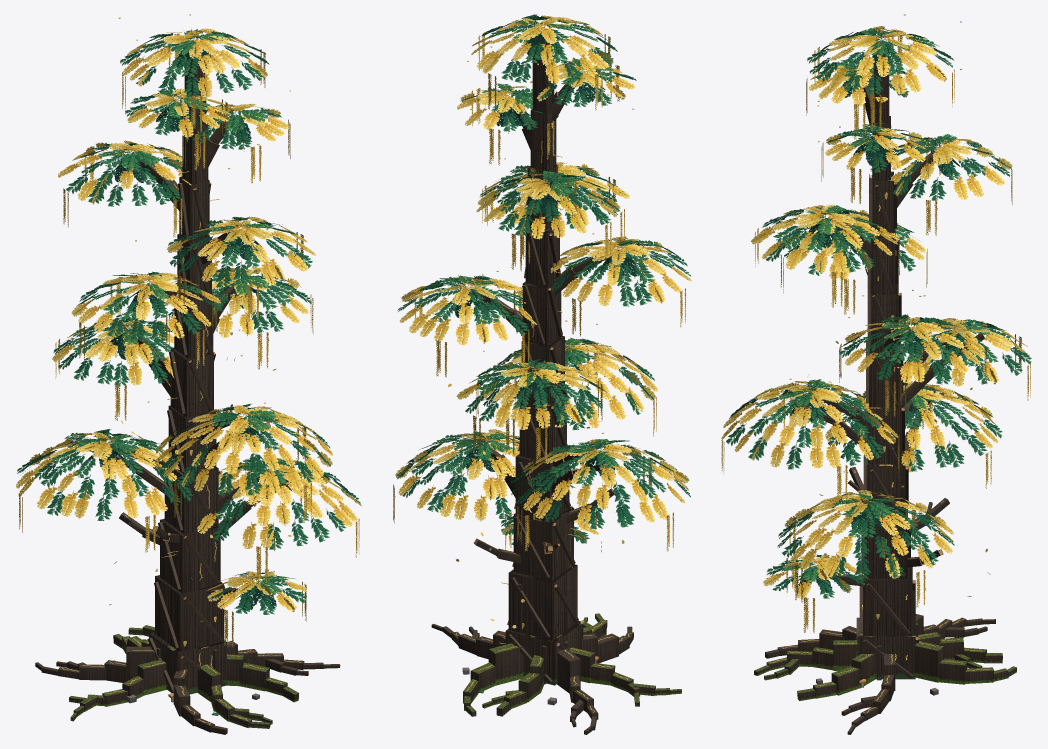
Rendered from worldbark_tree.glb.
The picture shows the model from 3 angles, left to right: view 1: azimuth 30°, elevation 25°; view 2: azimuth 150°, elevation 25°; view 3: azimuth 270°, elevation 25°; orthographic projection.
Visible parts, largest first — view 1: trunk, pad_2, pad_3, pad_8, pad_11, pad_7, pad_6, pad_4, pad_1, pad_5, pad_12, pad_10 (+5 smaller); view 2: trunk, pad_2, pad_1, pad_4, pad_8, pad_6, pad_5, pad_11, pad_3, pad_10, pad_7, pad_9 (+5 smaller); view 3: trunk, pad_1, pad_3, pad_2, pad_5, pad_7, pad_11, pad_8, pad_4, pad_9, pad_12, root_4_inner (+6 smaller).
Part boxes in pixels (x1,y1,x2,y2): trunk: (149,51,226,694); pad_2: (17,429,197,520); pad_3: (159,403,332,495); pad_8: (66,142,182,206); pad_11: (120,29,269,97); pad_7: (167,216,312,287); pad_6: (71,271,223,342); pad_4: (52,317,173,385); pad_1: (213,456,360,550); pad_5: (168,269,311,335); pad_12: (207,568,306,614); pad_10: (125,88,229,135); trunk: (505,36,583,685); pad_2: (510,439,690,530); pad_1: (395,431,572,521); pad_4: (456,359,606,425); pad_8: (486,168,620,235); pad_6: (550,240,690,306); pad_5: (397,275,529,343); pad_11: (480,14,617,82); pad_3: (475,337,655,430); pad_10: (536,57,636,107); pad_7: (479,163,624,228); pad_9: (460,83,558,133); trunk: (859,55,915,679); pad_1: (777,492,954,579); pad_3: (726,379,895,469); pad_2: (828,381,1002,471); pad_5: (839,314,966,383); pad_7: (751,205,880,272); pad_11: (807,28,953,94); pad_8: (870,134,1012,200); pad_4: (901,319,1031,384); pad_9: (826,124,923,173); pad_12: (763,553,865,598); root_4_inner: (915,640,943,682).
Size of the model in its own units: 27.2 by 56.64 by 25.13.
Materials: 1 (1 with a texture image).
